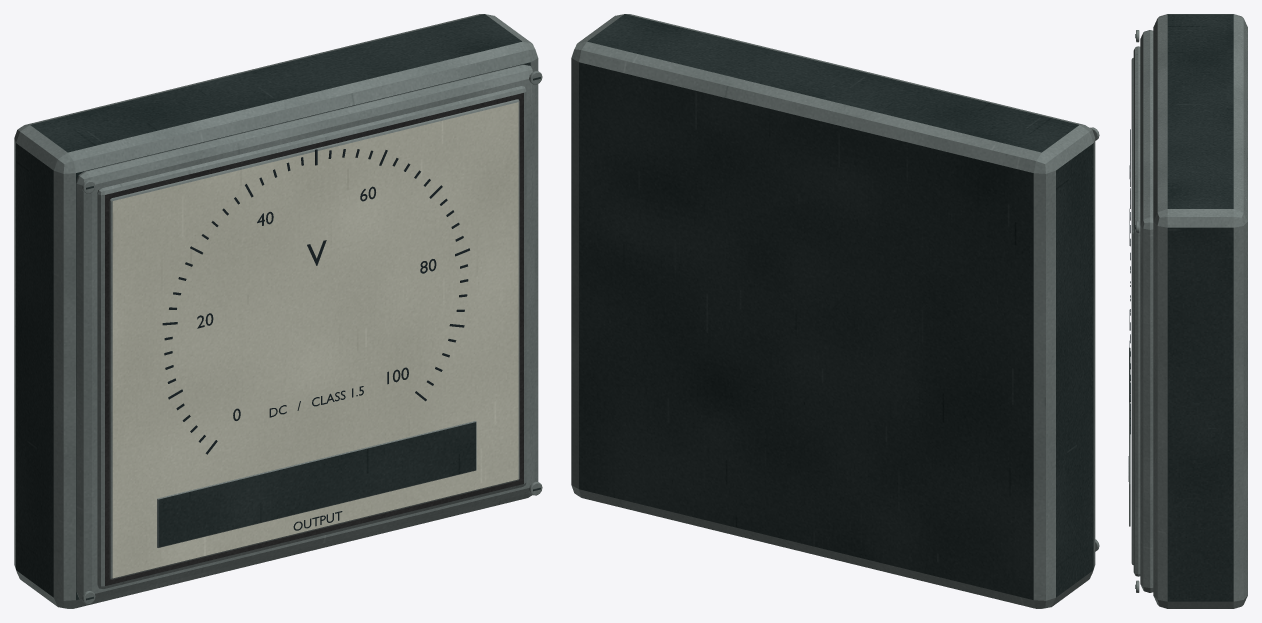
Rendered from Gauge_Housing.fbx.
3 renders of one model, left to right at view 1: azimuth 30°, elevation 25°; view 2: azimuth 150°, elevation 25°; view 3: azimuth 270°, elevation 25°, orthographic. The views are drawn at different scales.
Parts seen in each view (by area): view 1: Gauge_Housing__Visual; view 2: Gauge_Housing__Visual; view 3: Gauge_Housing__Visual.
Part boxes in pixels (x1,y1,x2,y2): Gauge_Housing__Visual: [14, 14, 542, 608]; Gauge_Housing__Visual: [571, 14, 1099, 608]; Gauge_Housing__Visual: [1128, 14, 1247, 608].
Size of the model in its own units: 0.62 by 0.56 by 0.1521.
5 materials, 4 textured.
